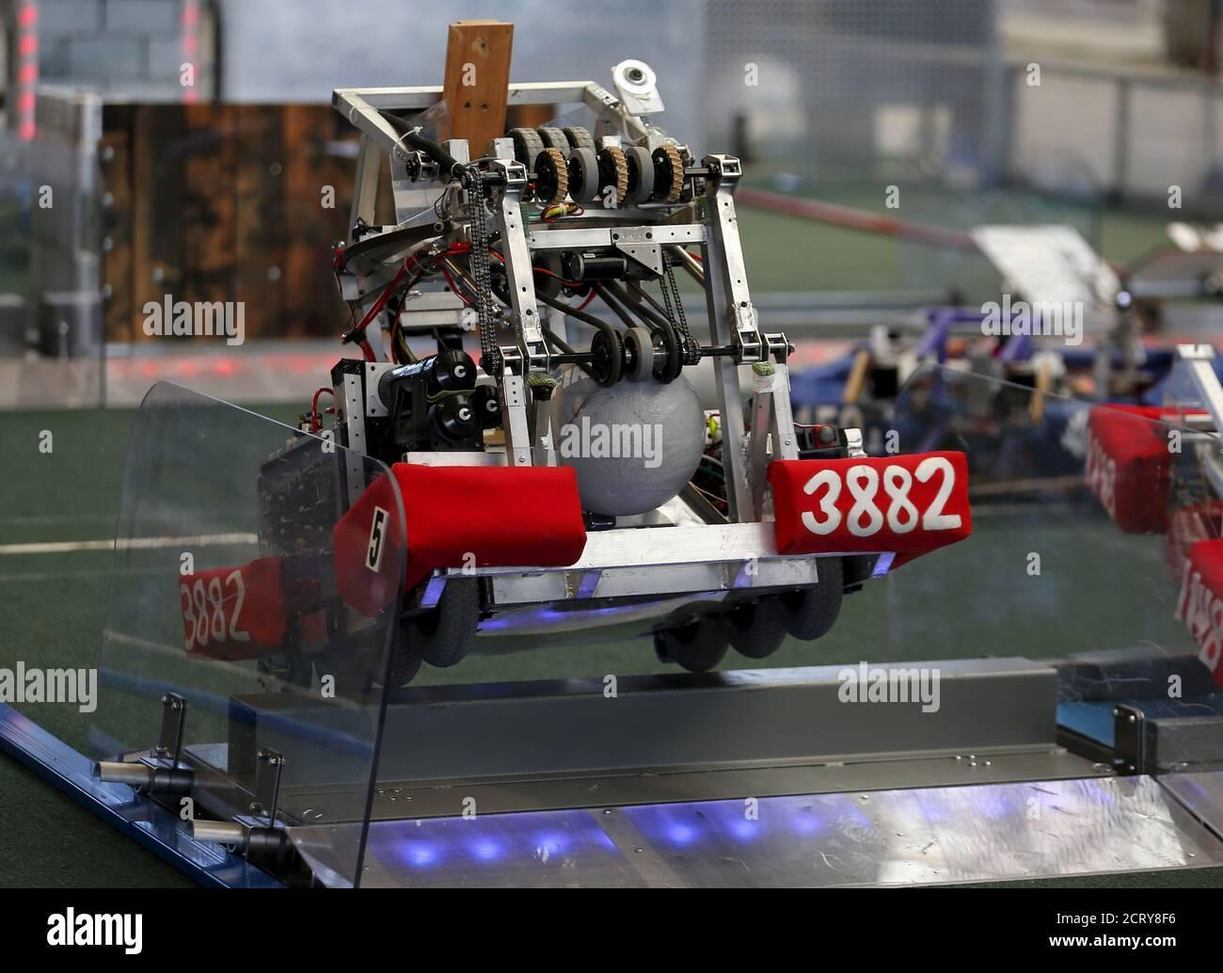robot: (149, 11, 984, 717), (1046, 298, 1223, 712)
